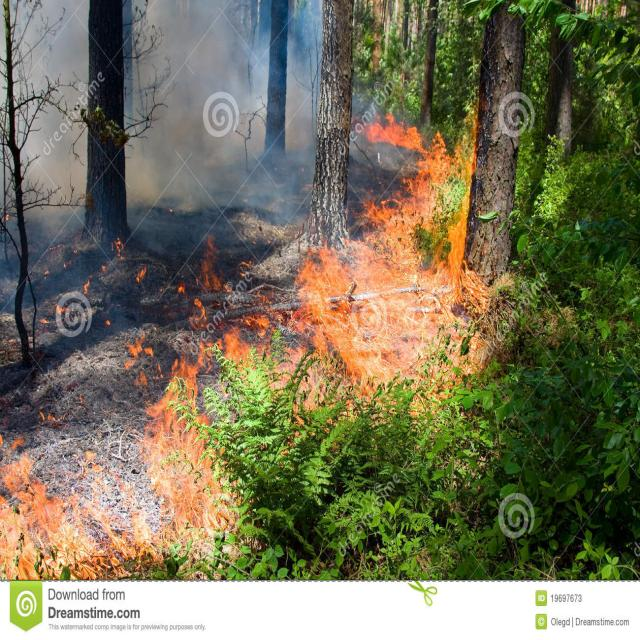Fire: (5, 69, 540, 611)
